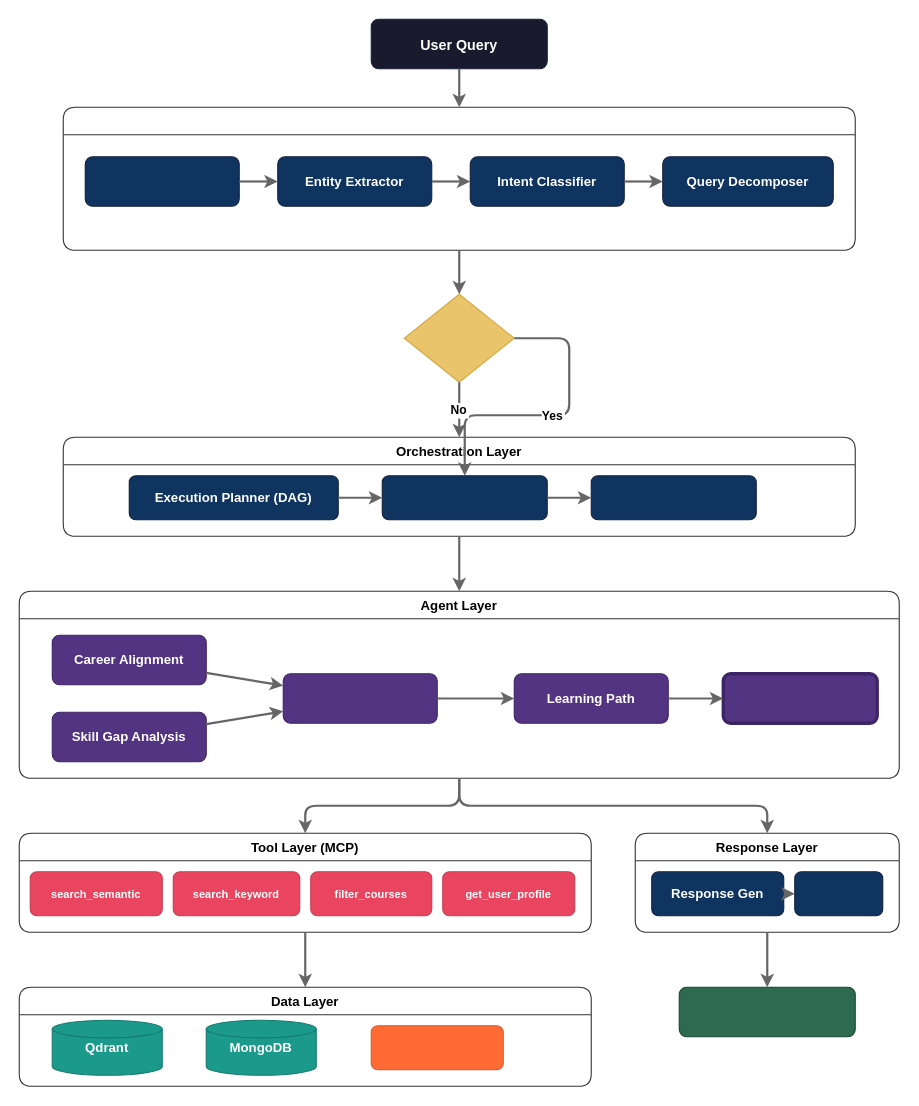
The diagram is 919 pixels wide and 1106 high, and some of its shapes have lost their labels. The shapes that lost their labels are listed below. From the top down, each one's box as (x1, y1, x2, y2) in pixels, then its label:
(84, 156, 239, 206): Input Normalizer
(62, 106, 855, 250): Query Understanding Layer
(403, 293, 514, 382): Simple?
(381, 475, 547, 520): Agent Dispatcher
(590, 475, 756, 520): Result Merger
(282, 673, 437, 723): Course Retrieval
(721, 672, 878, 724): Learning Advisor
(794, 871, 883, 916): Guardrails
(678, 986, 855, 1037): Response
(370, 1025, 503, 1070): OpenAI API
